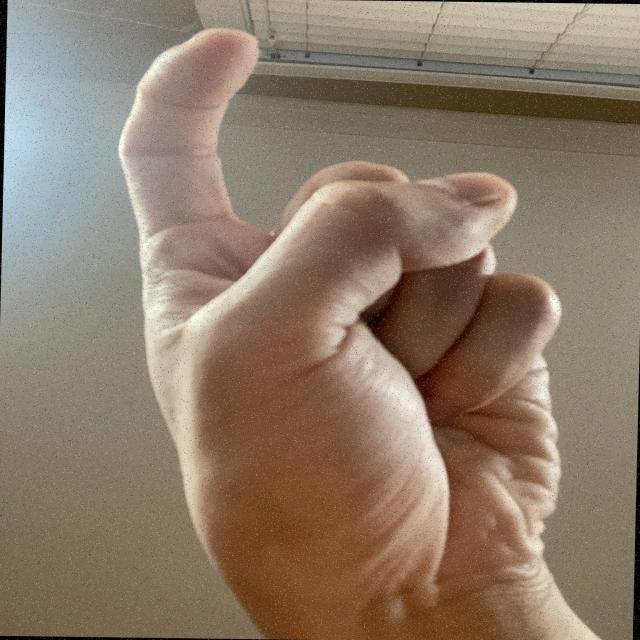X: (87, 19, 588, 640)
